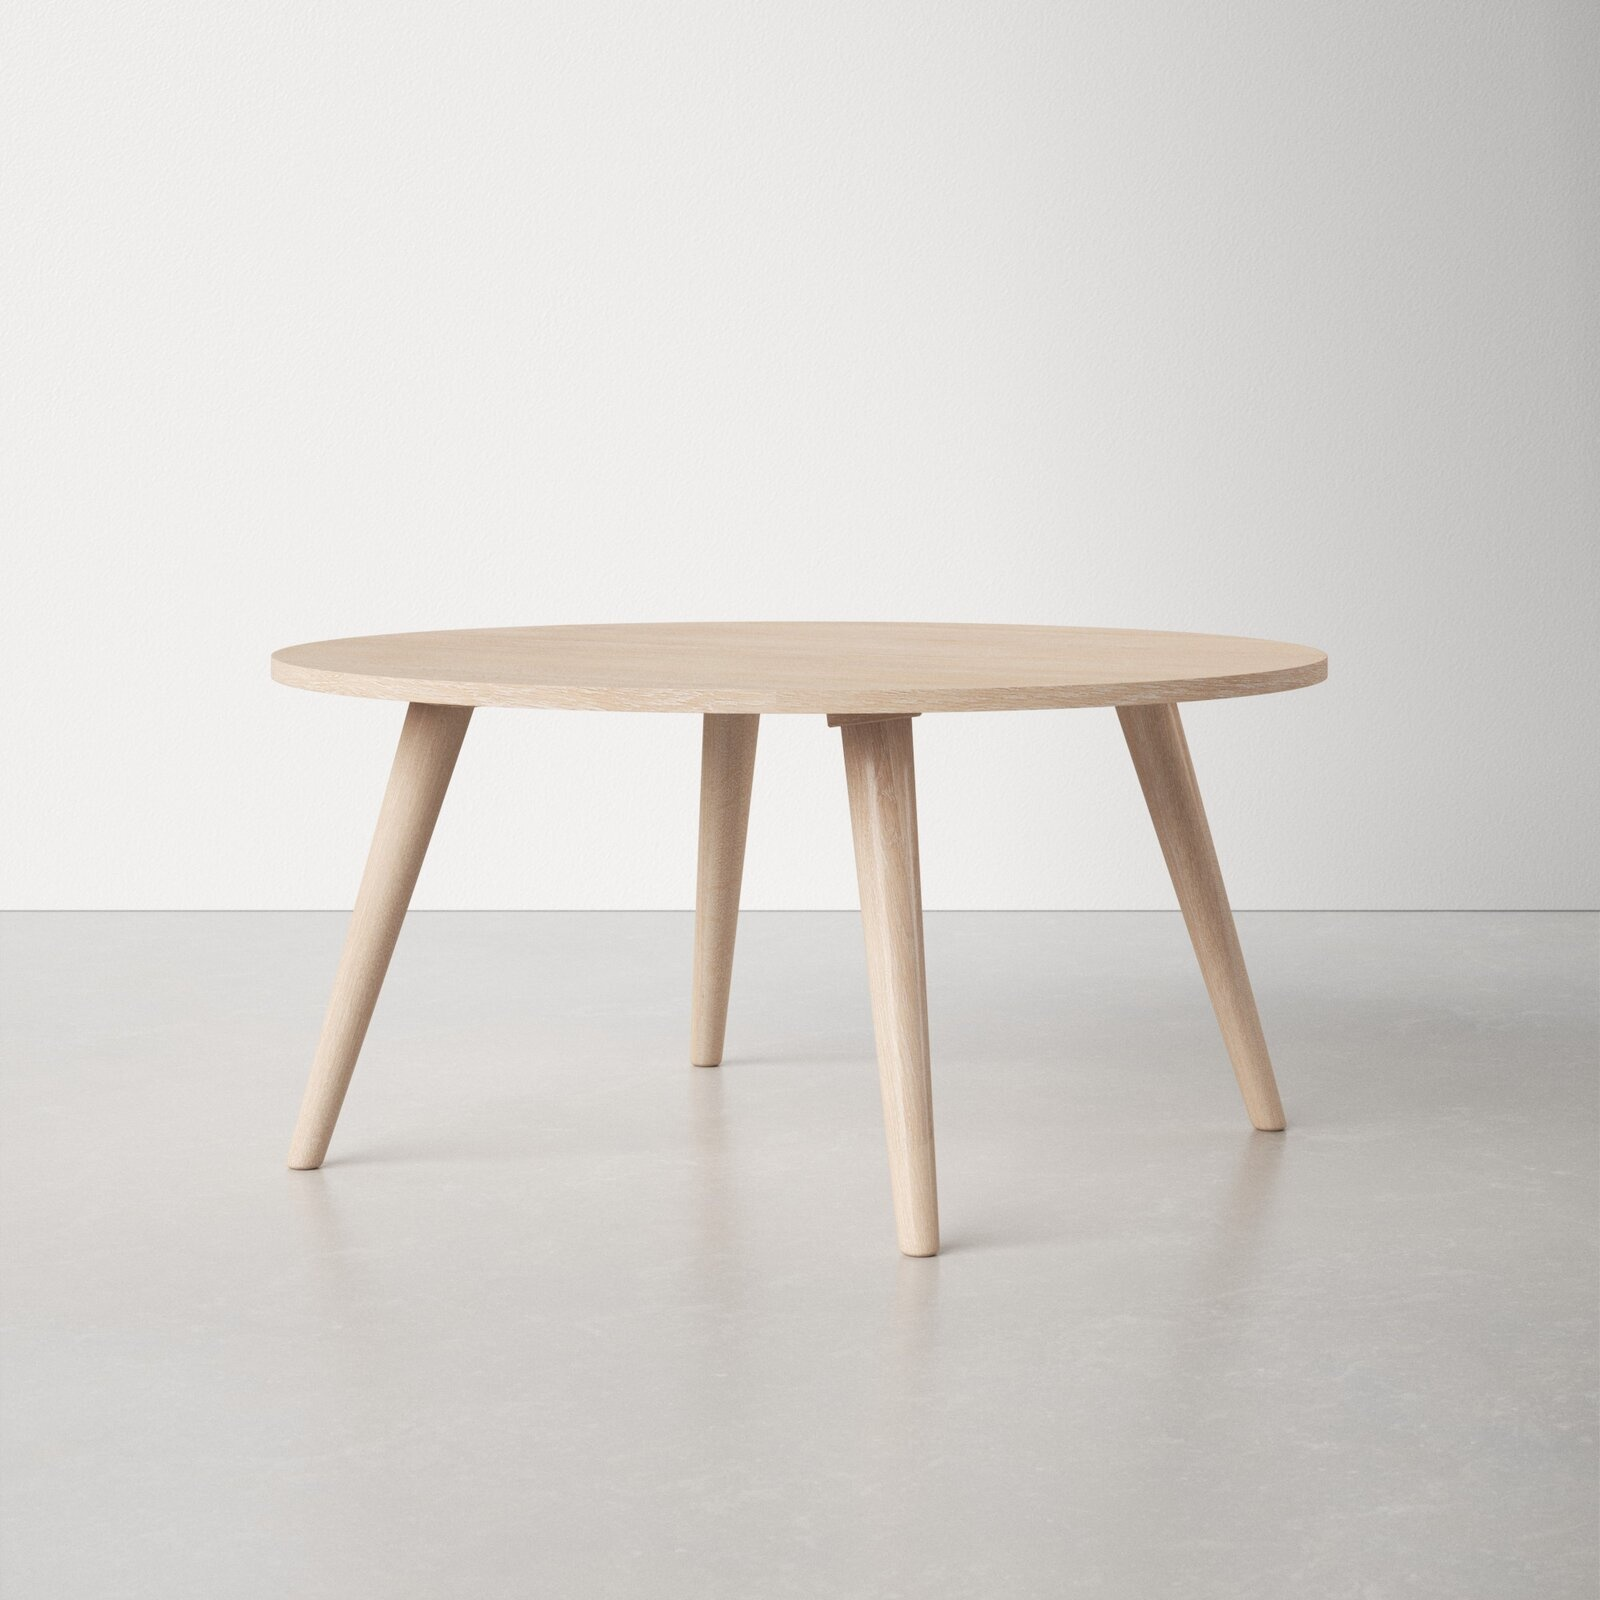obstacle: (273, 623, 1326, 1256)
